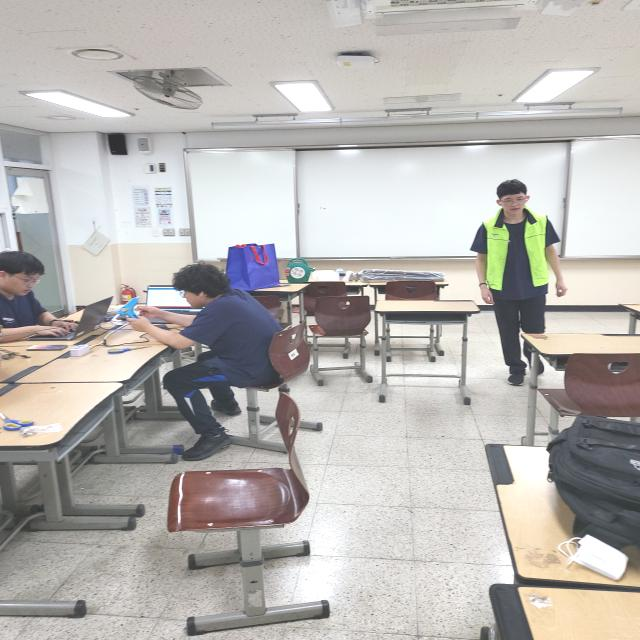weston_spy: (474, 205, 559, 304)
